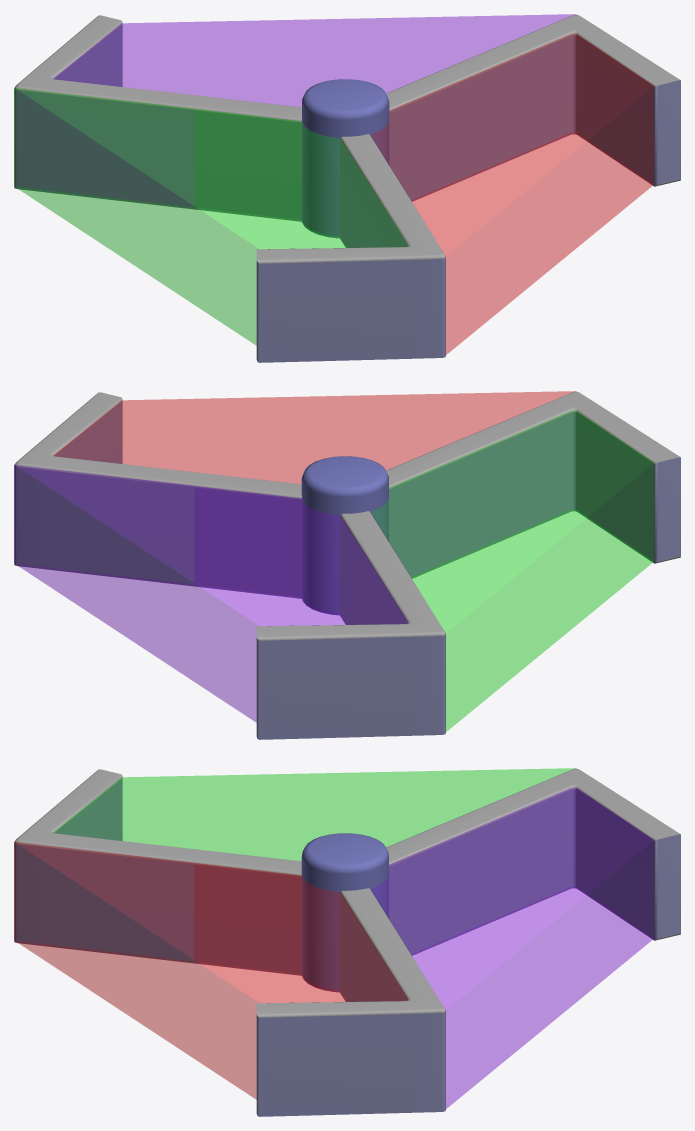
File: Rolling Door.fbx
The picture shows the model from 3 angles, top to bottom: view 1: azimuth 30°, elevation 25°; view 2: azimuth 150°, elevation 25°; view 3: azimuth 270°, elevation 25°; orthographic projection.
Parts seen in each view (by area): view 1: Walls, Transparent_2, Transparent_1, Transparent_3; view 2: Walls, Transparent_3, Transparent_2, Transparent_1; view 3: Walls, Transparent_1, Transparent_3, Transparent_2.
Part boxes in pixels (box(x1,y1,x2,y2)): Walls: box(14, 14, 680, 362); Transparent_2: box(14, 88, 408, 345); Transparent_1: box(371, 33, 653, 354); Transparent_3: box(53, 14, 575, 106); Walls: box(14, 391, 680, 739); Transparent_3: box(14, 465, 408, 722); Transparent_2: box(371, 410, 653, 731); Transparent_1: box(53, 391, 575, 483); Walls: box(14, 768, 680, 1116); Transparent_1: box(14, 842, 408, 1099); Transparent_3: box(371, 787, 653, 1108); Transparent_2: box(53, 768, 575, 860).
Bounding box in the file's own units: 443 × 105 × 503.
